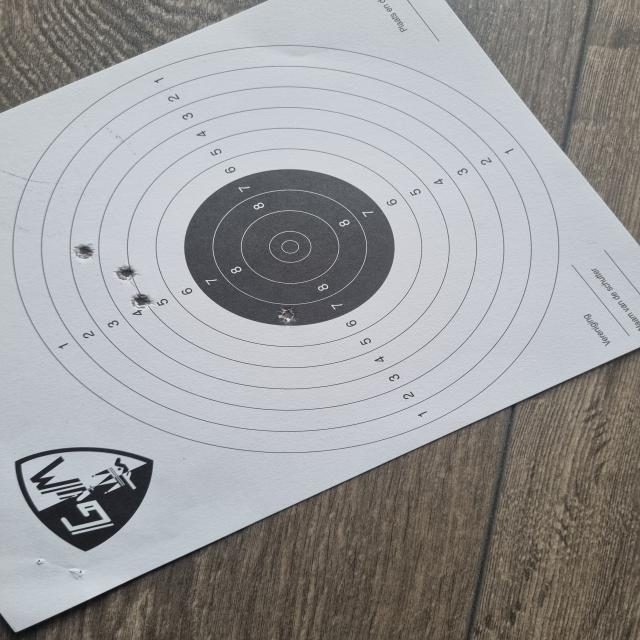3: (73, 244, 94, 259)
5: (116, 265, 140, 280), (131, 294, 153, 309)
7: (278, 308, 296, 323)
Target: (13, 41, 563, 455)
black_contour: (184, 170, 395, 326)
